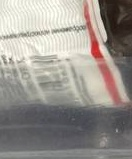1d: (28, 54, 74, 108)
